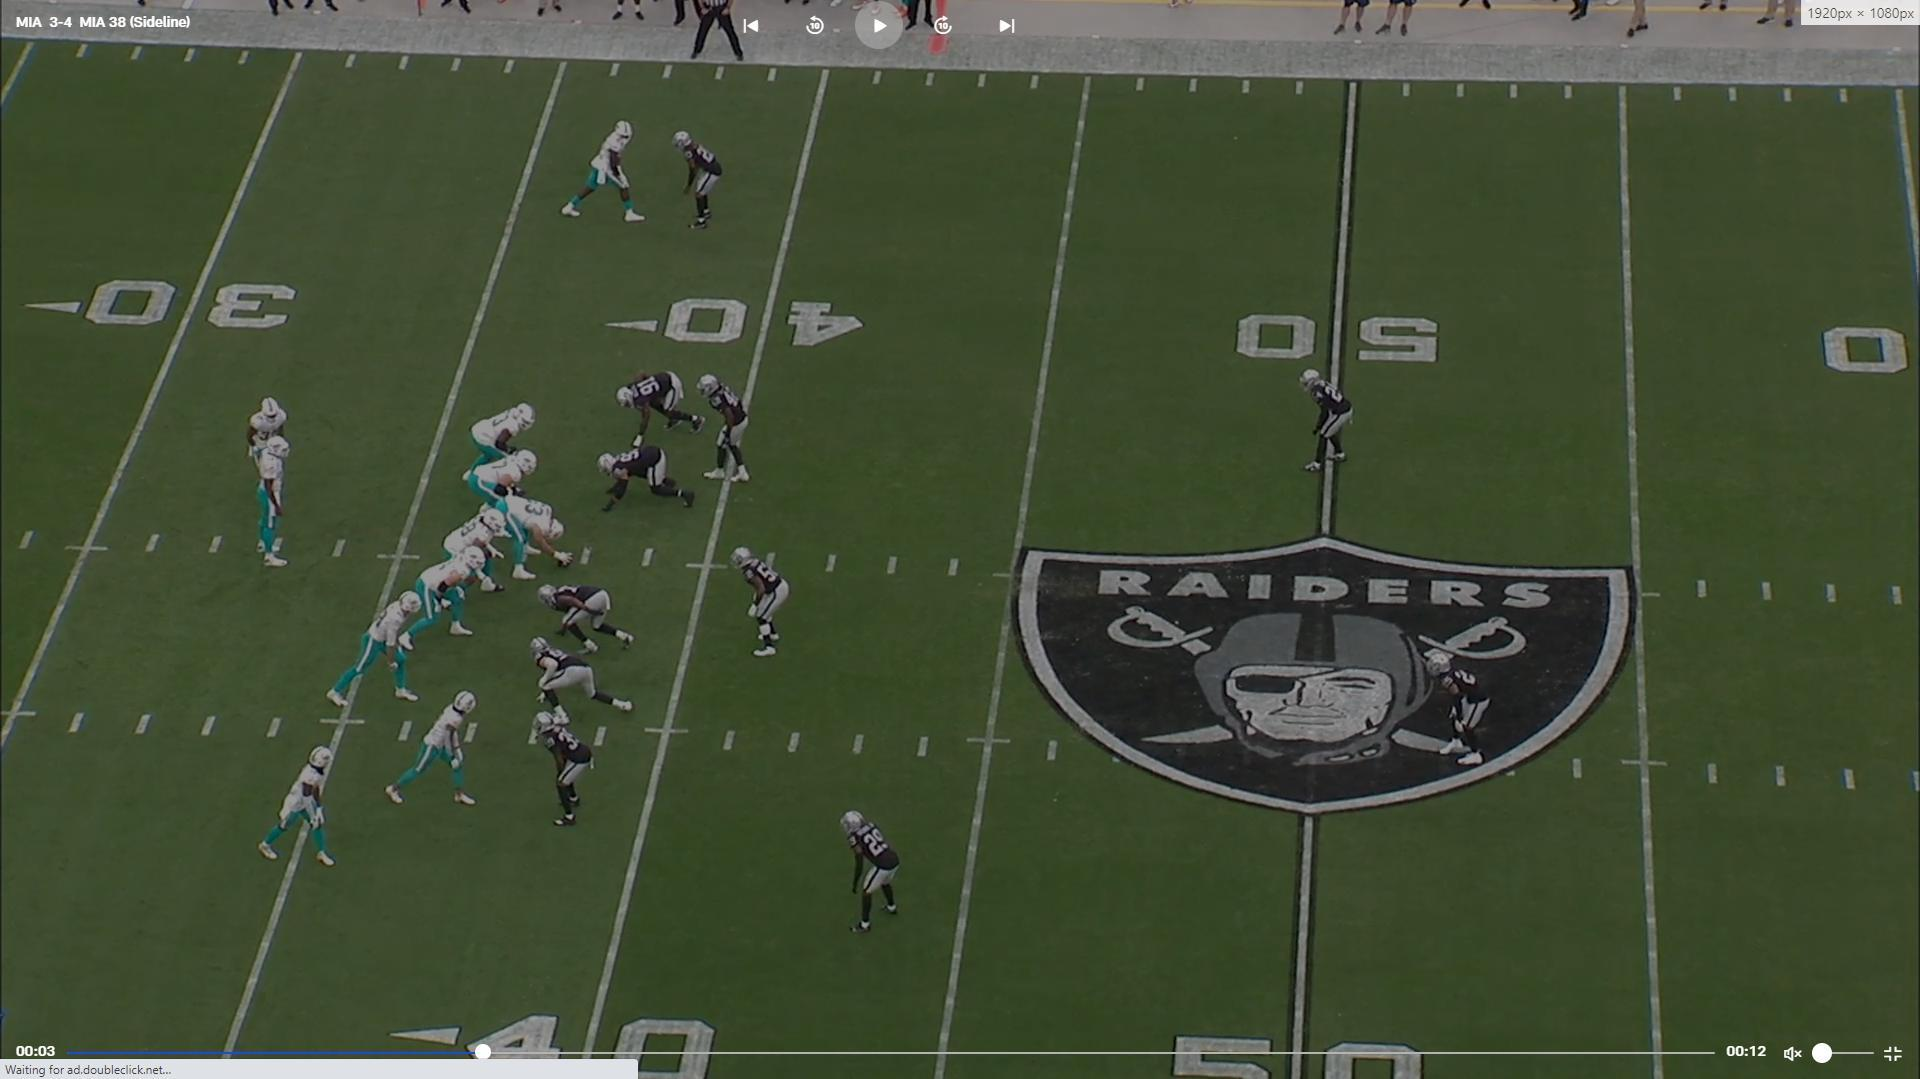player: (324, 586, 423, 714), (389, 688, 486, 813), (257, 740, 348, 870), (524, 637, 637, 727), (558, 118, 645, 231), (839, 806, 907, 938), (726, 543, 794, 668), (540, 703, 603, 828), (495, 493, 581, 584), (1433, 647, 1493, 777), (593, 442, 697, 516), (534, 578, 635, 654), (611, 368, 707, 442), (247, 430, 297, 570), (1296, 363, 1355, 480), (699, 372, 758, 486), (440, 505, 509, 596), (417, 550, 485, 641), (675, 128, 728, 237), (471, 449, 546, 513), (472, 399, 544, 461), (241, 395, 297, 471)
ref: (688, 0, 751, 65)
